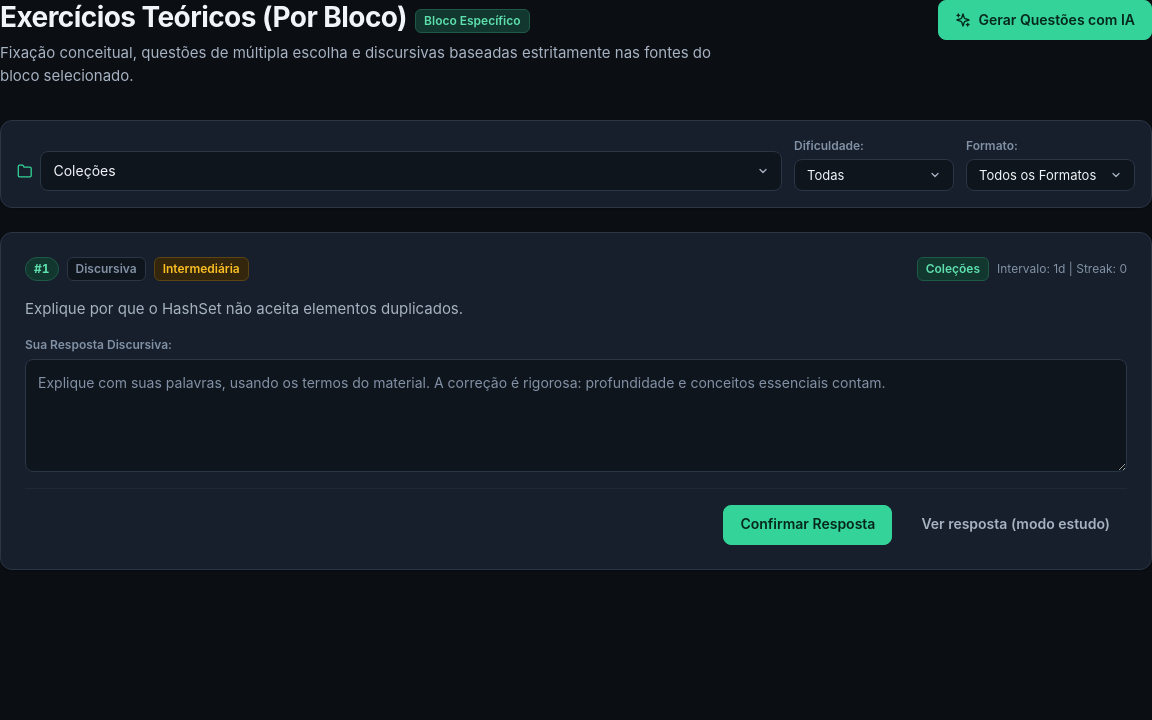
Test: TheoreticalQuestionsPage — questão aberta › só mostra o que faltou, a resposta-modelo e o trecho depois de responder
The width and height of the screenshot is (1152, 720).
Expected: the text "Explique por que o HashSet não aceita elementos duplicados." is shown, x1=25 y1=299 x2=463 y2=318
Expected: the text "O HashSet usa hashCode para achar o balde e equals para comparar os objetos." is not shown
In the text box: (576, 415) x1=25 y1=359 x2=1127 y2=472, type "Ele usa o hashCode."
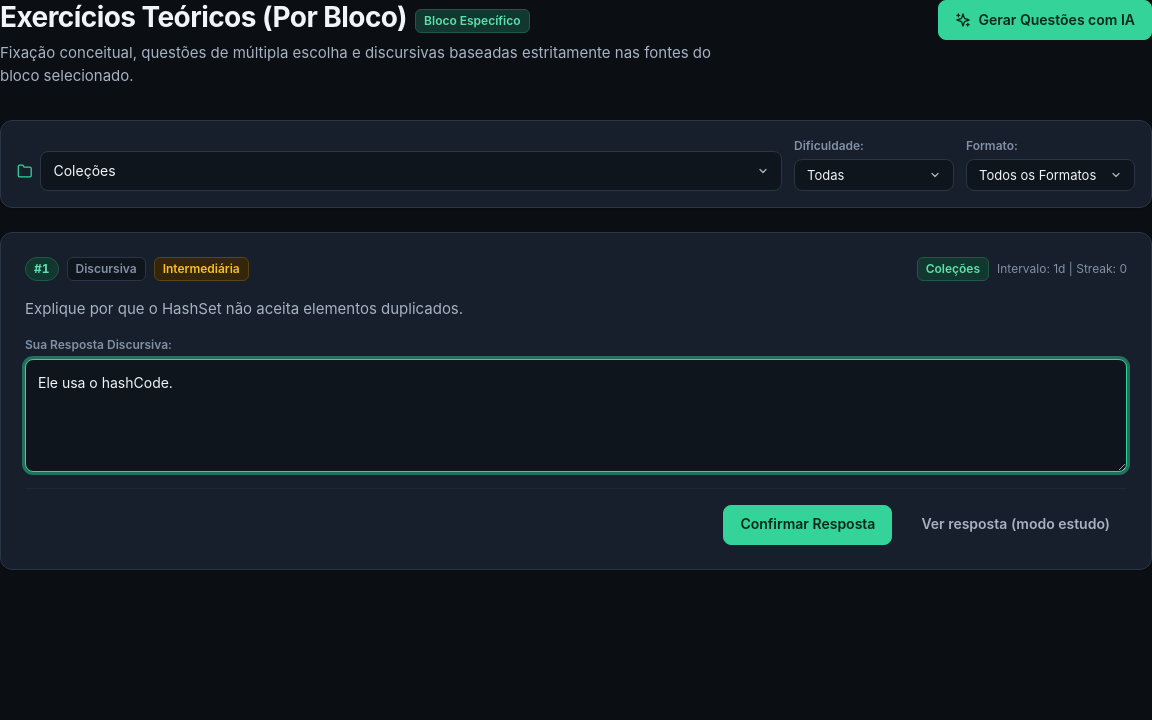
Click the button "Confirmar Resposta": click(808, 525) x1=723 y1=505 x2=892 y2=545
(page scrolled)
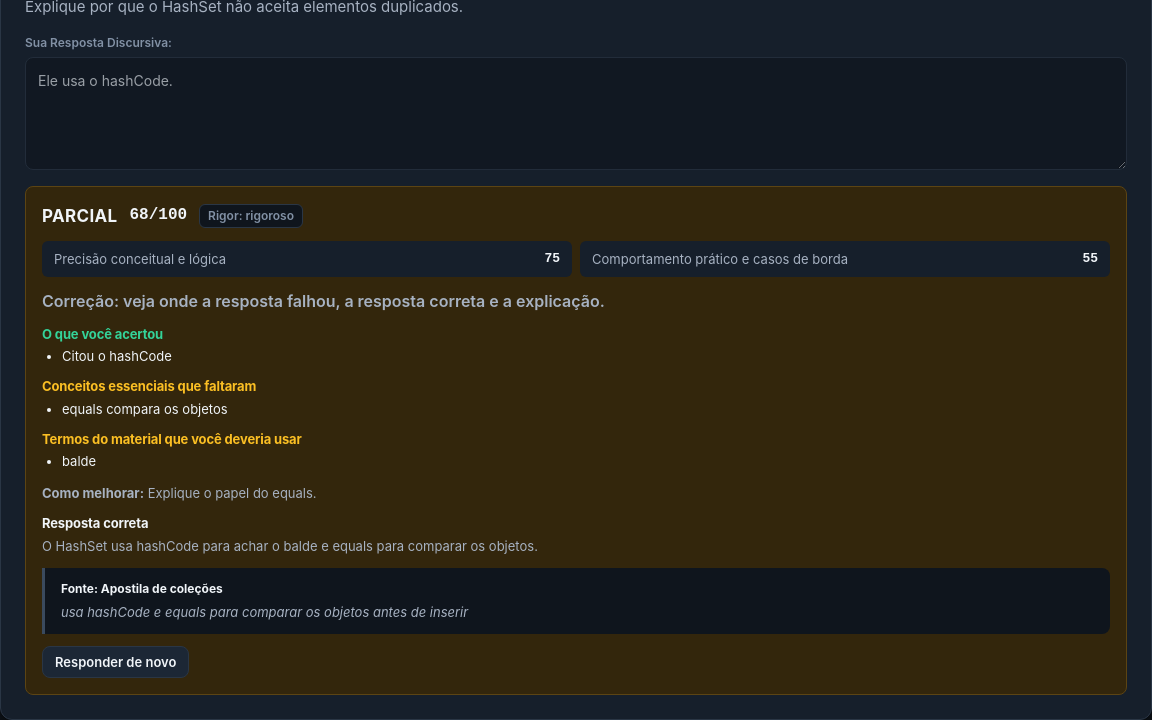
Result: the text "PARCIAL" is shown at x1=42 y1=203 x2=118 y2=229
Result: the text "68/100" is shown at x1=130 y1=204 x2=187 y2=228
Result: the heading "Conceitos essenciais que faltaram" is shown at x1=42 y1=378 x2=256 y2=394
